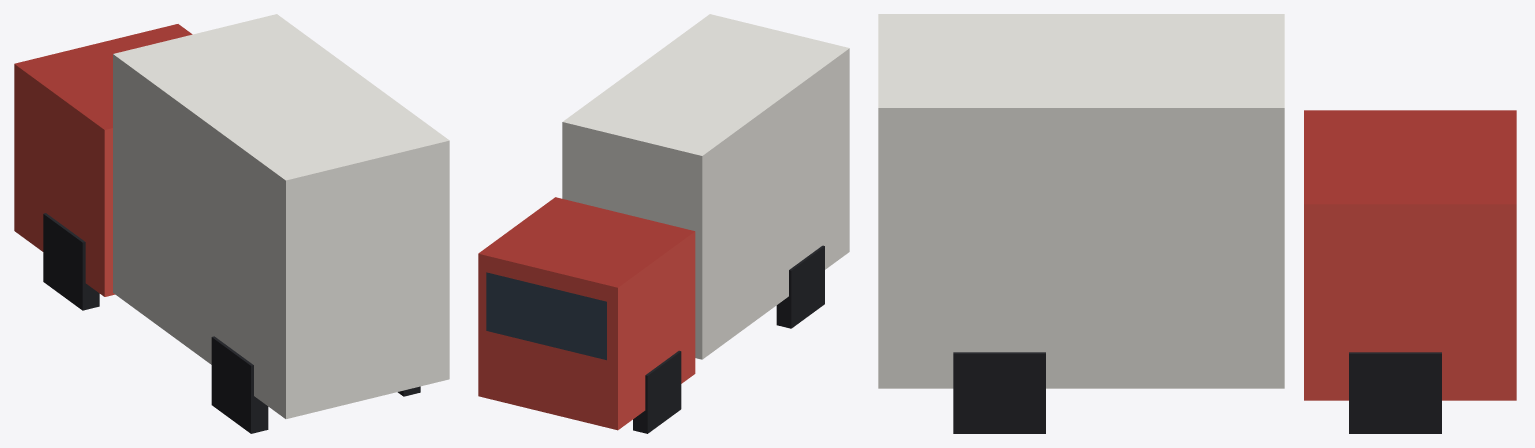
File: V_Truck.fbx
The picture shows the model from 3 angles, left to right: view 1: azimuth 30°, elevation 25°; view 2: azimuth 150°, elevation 25°; view 3: azimuth 270°, elevation 25°; orthographic projection. The views are drawn at different scales.
Parts seen in each view (by area): view 1: V_Truck.002; view 2: V_Truck.002; view 3: V_Truck.002.
Part boxes in pixels (x1,y1,x2,y2): V_Truck.002: [14, 14, 449, 433]; V_Truck.002: [478, 14, 849, 433]; V_Truck.002: [878, 14, 1516, 433].
Size of the model in its own units: 1.19 by 1.85 by 3.32.
